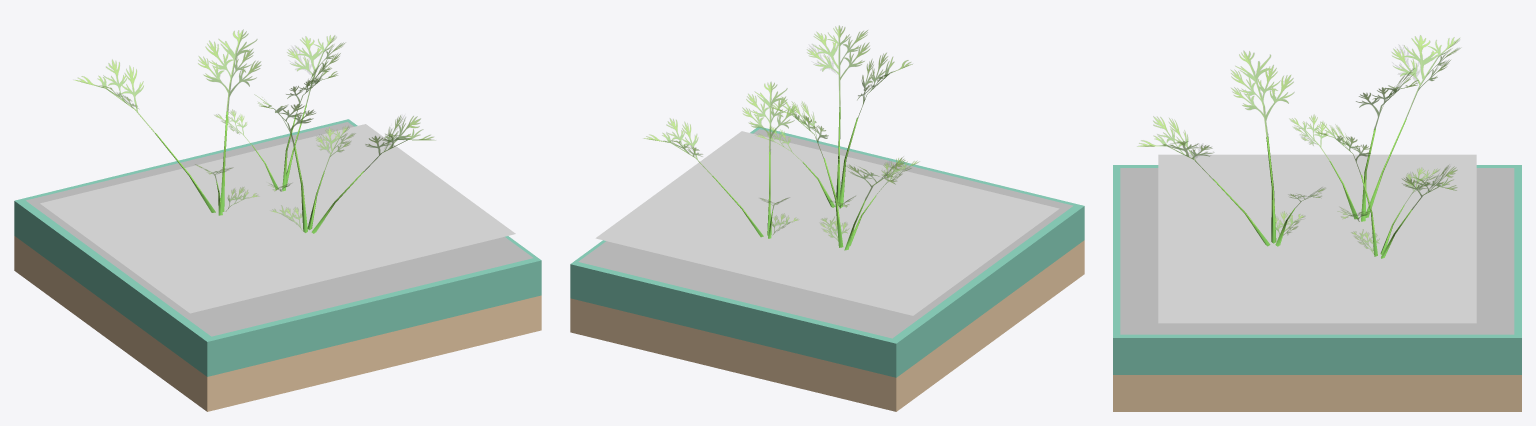
The model's file is carrotCOL.gltf.
The picture shows the model from 3 angles, left to right: view 1: azimuth 30°, elevation 25°; view 2: azimuth 150°, elevation 25°; view 3: azimuth 270°, elevation 25°; orthographic projection. The views are drawn at different scales.
Visible parts, largest first — view 1: COL, tile, field.004, leaf_01.031, leaf_02.036, leaf_02.034, leaf_02.038, carrot_jung.003, carrot_jung.001, leaf_01.035, carrot_jung.002, leaf_02.037; view 2: COL, tile, field.004, leaf_02.038, leaf_01.033, carrot_jung.003, leaf_02.036, leaf_01.035, leaf_01.031, carrot_jung.001; view 3: COL, tile, field.004, leaf_01.035, leaf_02.034, leaf_02.038, carrot_jung.001, carrot_jung.003, leaf_01.031, leaf_02.036, carrot_jung.002, leaf_01.033 (+1 smaller).
Part boxes in pixels (bbox=[...]): COL: bbox=[40, 124, 515, 313]; tile: bbox=[14, 119, 541, 411]; field.004: bbox=[26, 122, 532, 336]; leaf_01.031: bbox=[198, 29, 261, 113]; leaf_02.036: bbox=[287, 35, 345, 104]; leaf_02.034: bbox=[74, 59, 155, 133]; leaf_02.038: bbox=[364, 115, 435, 171]; carrot_jung.003: bbox=[293, 145, 363, 233]; carrot_jung.001: bbox=[155, 111, 228, 215]; leaf_01.035: bbox=[254, 94, 315, 145]; carrot_jung.002: bbox=[252, 104, 306, 191]; leaf_02.037: bbox=[316, 126, 355, 170]; COL: bbox=[595, 131, 1059, 315]; tile: bbox=[570, 126, 1084, 411]; field.004: bbox=[578, 129, 1073, 338]; leaf_02.038: bbox=[807, 25, 869, 106]; leaf_01.033: bbox=[742, 82, 795, 153]; carrot_jung.003: bbox=[802, 107, 858, 207]; leaf_02.036: bbox=[643, 118, 712, 176]; leaf_01.035: bbox=[857, 53, 912, 118]; leaf_01.031: bbox=[769, 96, 828, 158]; carrot_jung.001: bbox=[823, 158, 875, 250]; COL: bbox=[1158, 154, 1476, 323]; tile: bbox=[1113, 165, 1521, 411]; field.004: bbox=[1120, 168, 1514, 334]; leaf_01.035: bbox=[1231, 51, 1294, 139]; leaf_02.034: bbox=[1391, 35, 1460, 118]; leaf_02.038: bbox=[1137, 116, 1213, 179]; carrot_jung.001: bbox=[1329, 118, 1406, 221]; carrot_jung.003: bbox=[1213, 136, 1295, 246]; leaf_01.031: bbox=[1356, 68, 1418, 130]; leaf_02.036: bbox=[1402, 165, 1457, 209]; carrot_jung.002: bbox=[1361, 174, 1412, 258]; leaf_01.033: bbox=[1315, 121, 1370, 174].
Bounding box in the file's own units: 1 × 0.7064 × 1.
